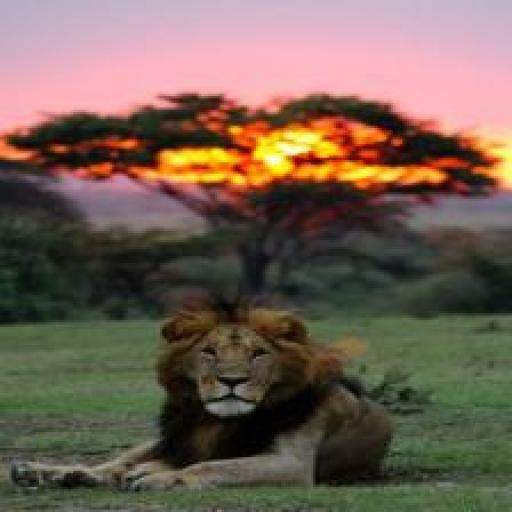lion: (148, 300, 318, 425)
